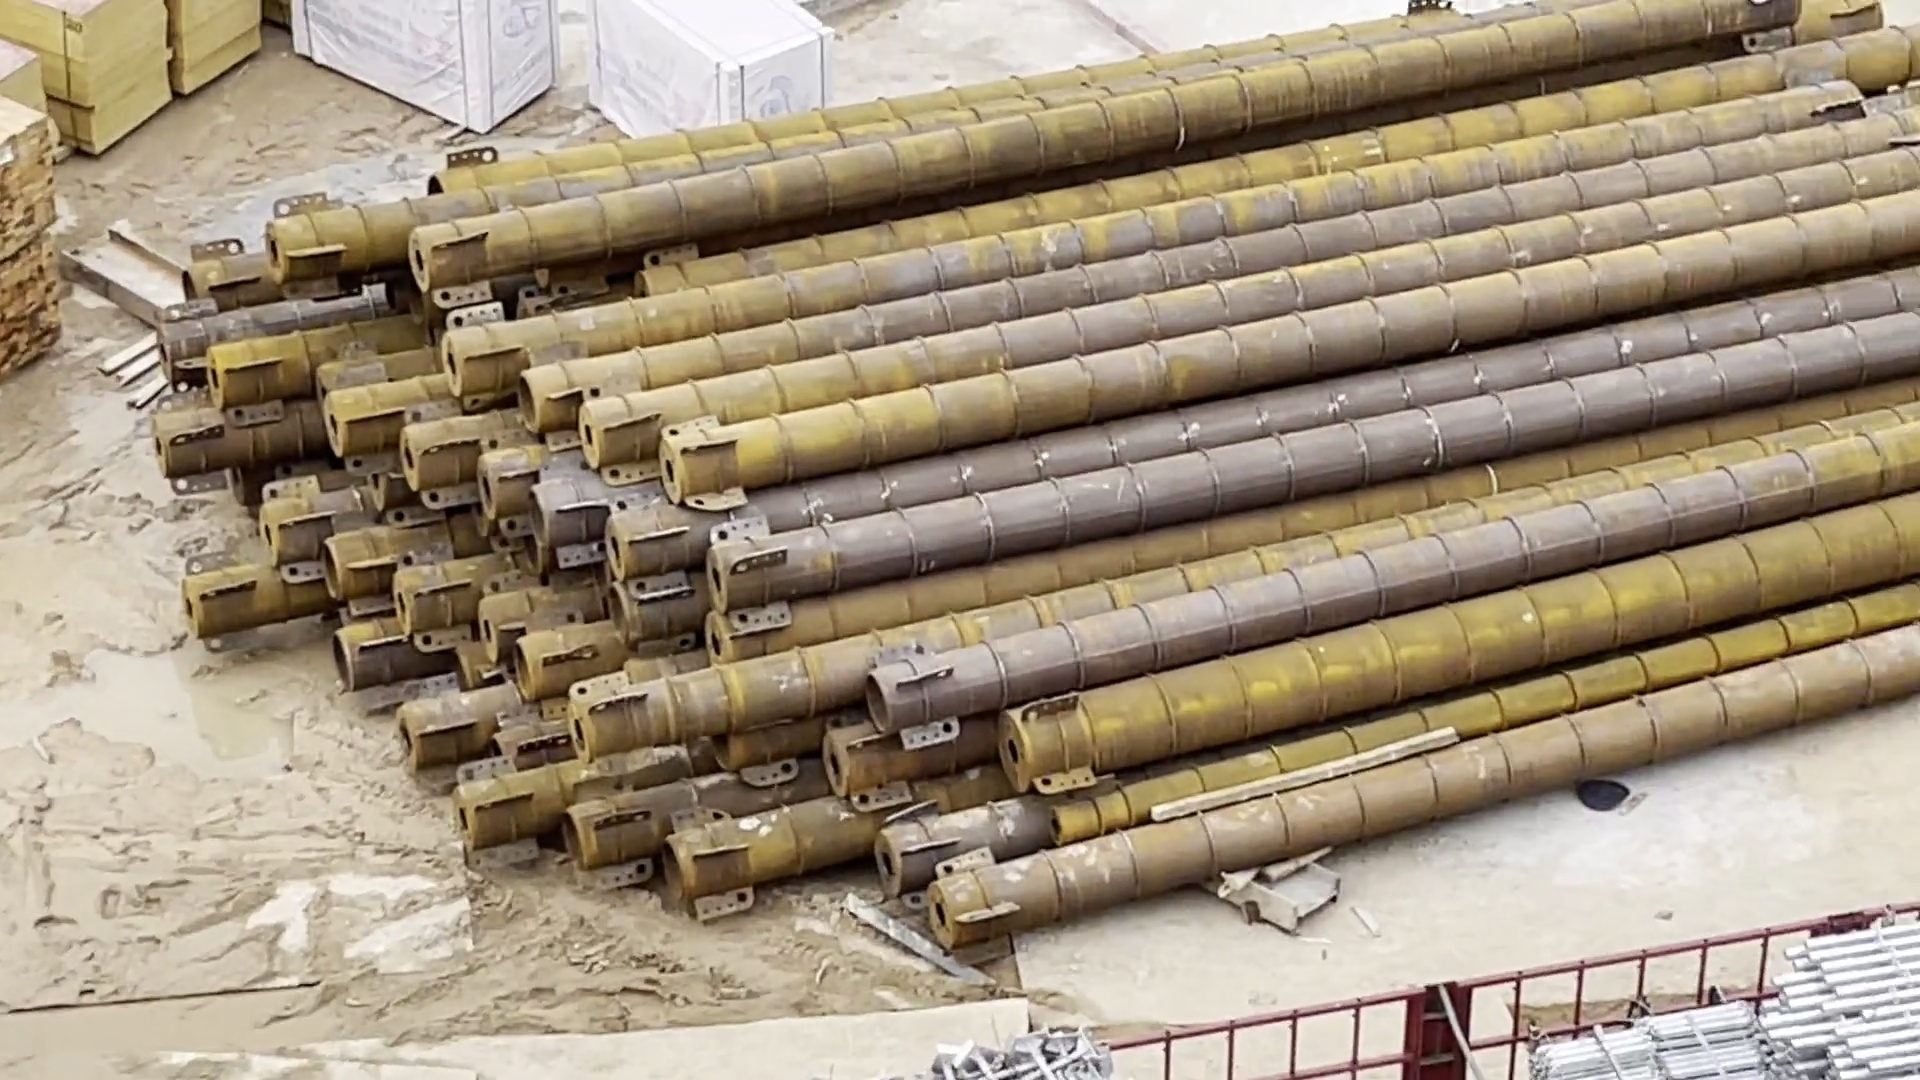scaffold: (1536, 914, 1920, 1080)
wood: (1, 90, 71, 382)
